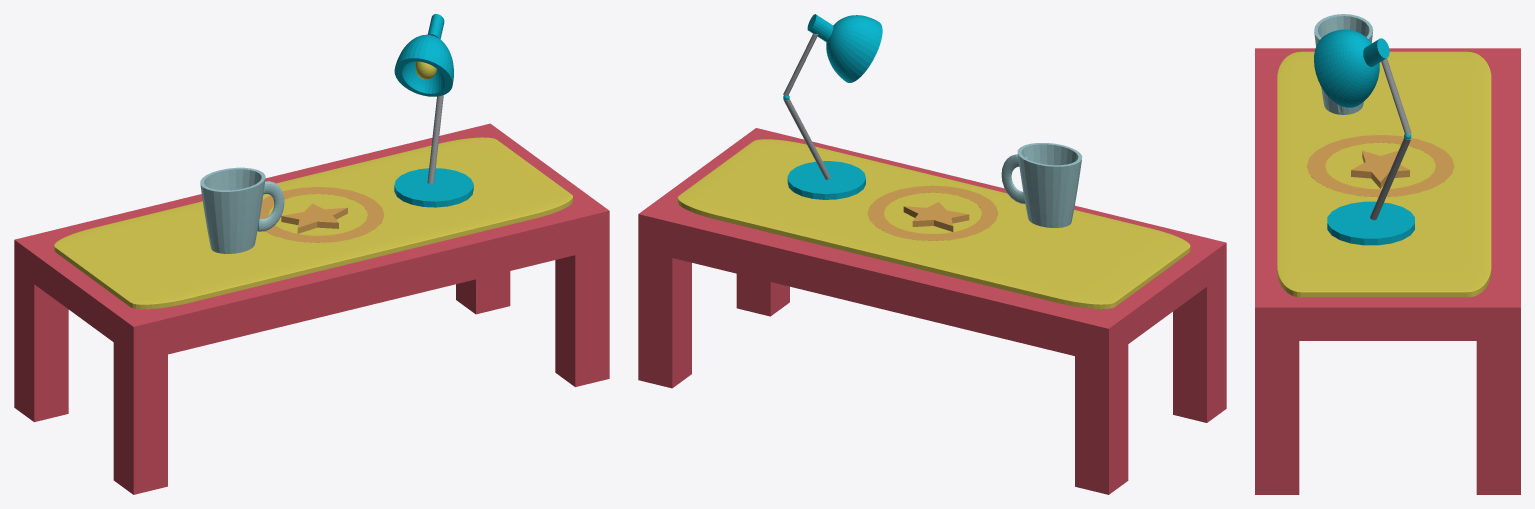
File: Table.glb
The picture shows the model from 3 angles, left to right: view 1: azimuth 30°, elevation 25°; view 2: azimuth 150°, elevation 25°; view 3: azimuth 270°, elevation 25°; orthographic projection. The views are drawn at different scales.
Visible parts, largest first — view 1: Mesh_Mesh_head_geo.001_lambert2SG.001; view 2: Mesh_Mesh_head_geo.001_lambert2SG.001; view 3: Mesh_Mesh_head_geo.001_lambert2SG.001.
Part boxes in pixels (left/top/right/bottom): Mesh_Mesh_head_geo.001_lambert2SG.001: left=14, top=14, right=609, bottom=494; Mesh_Mesh_head_geo.001_lambert2SG.001: left=638, top=14, right=1226, bottom=494; Mesh_Mesh_head_geo.001_lambert2SG.001: left=1255, top=14, right=1520, bottom=494.
Bounding box in the file's own units: 83 × 58.69 × 36.
